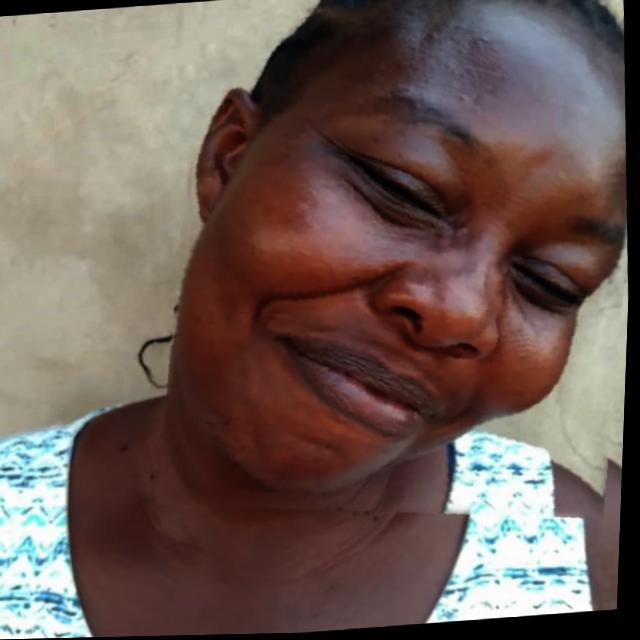happy: (146, 0, 640, 539)
